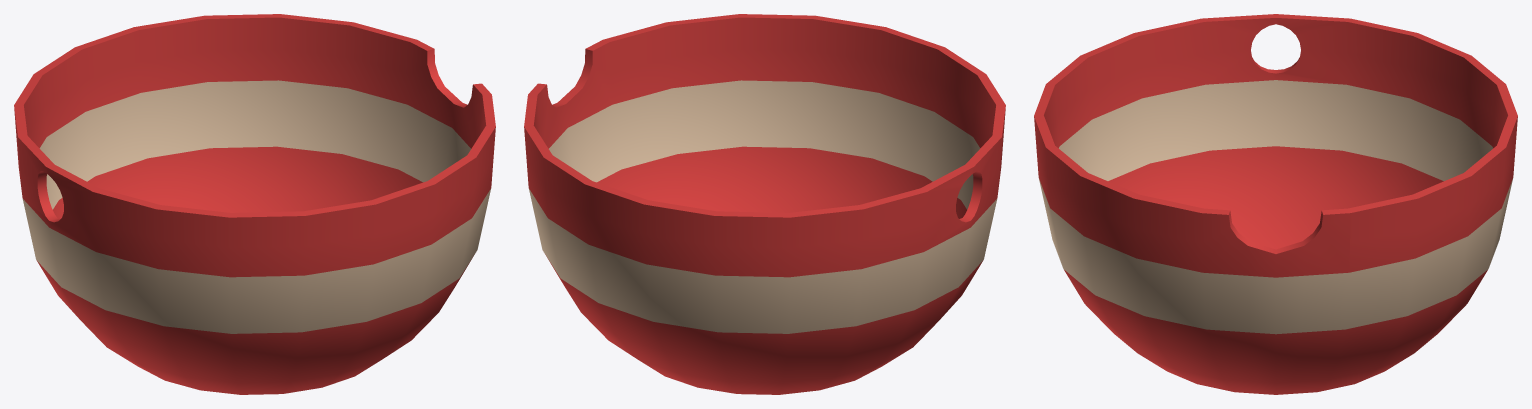
Rendered from chopstick_bowl.fbx.
3 views of the same model, side by side, from view 1: azimuth 30°, elevation 25°; view 2: azimuth 150°, elevation 25°; view 3: azimuth 270°, elevation 25° (orthographic).
Visible parts, largest first — view 1: Bowl; view 2: Bowl; view 3: Bowl.
Boxes of the visible parts, bbox=[...] form: Bowl: bbox=[14, 14, 495, 394]; Bowl: bbox=[524, 14, 1005, 394]; Bowl: bbox=[1034, 14, 1517, 394].
Size of the model in its own units: 200 by 198 by 112.
